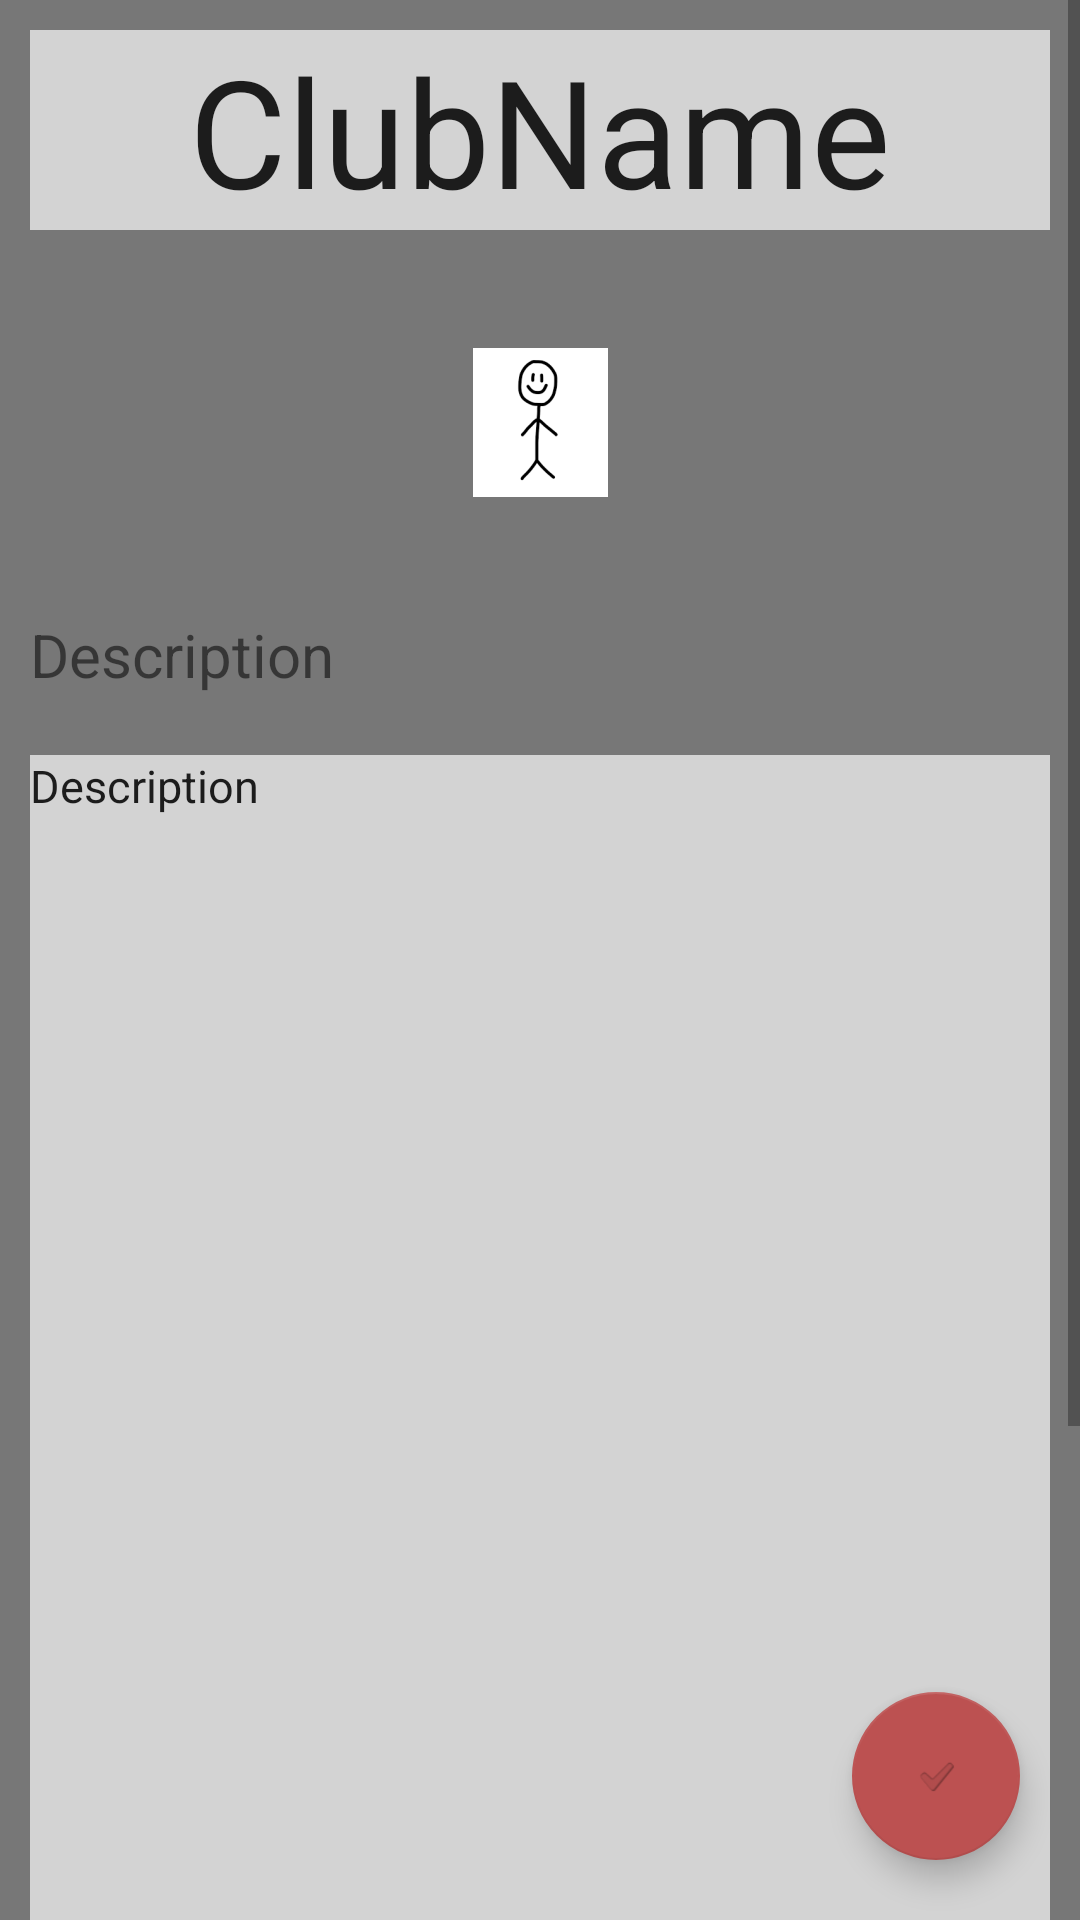

Point at icon controls on the screen. Image size 1080x1920, points as (x=x, y=y).
stickman: (x=540, y=422)
